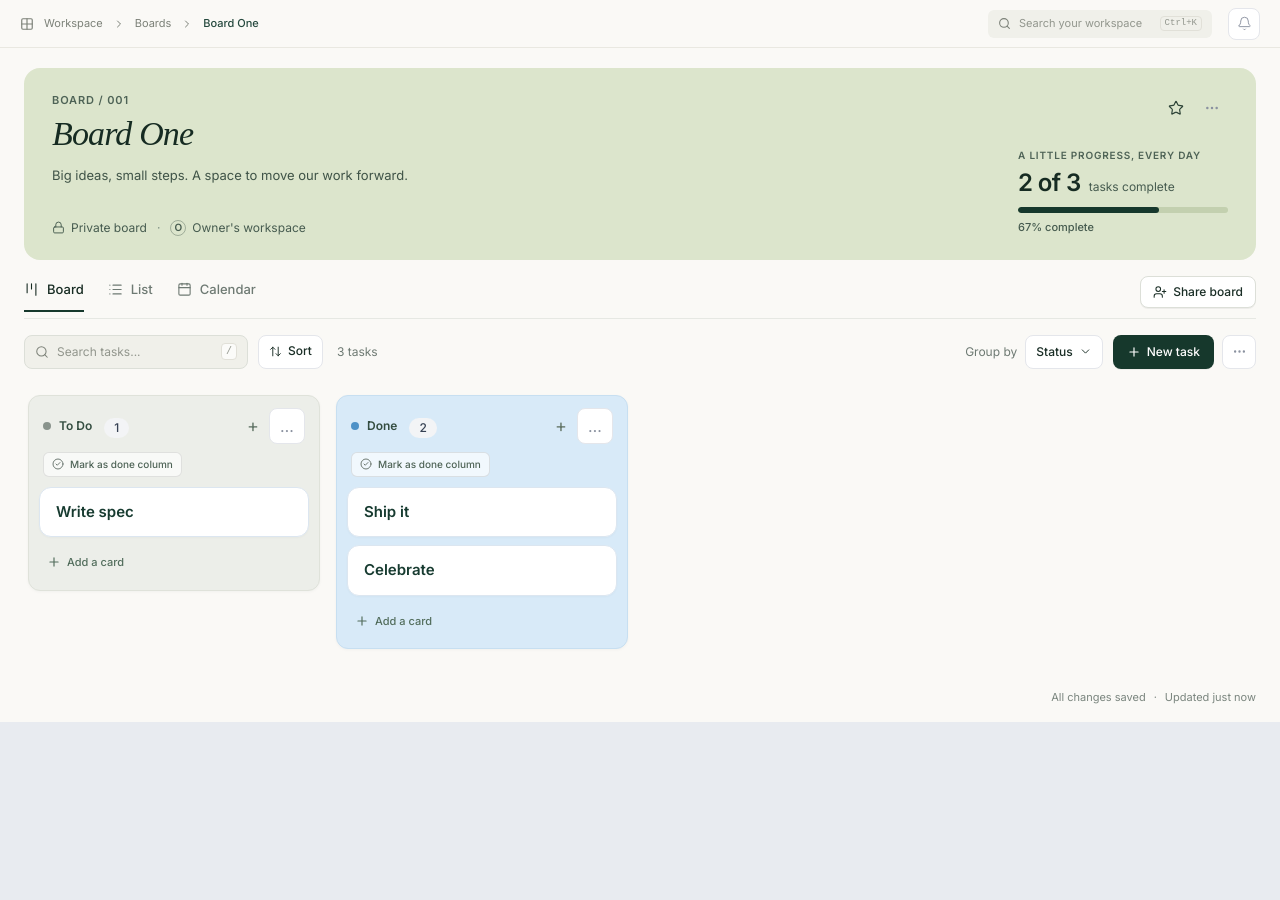
it: BoardDetailView › columns and cards › column + button (add task to top) › keeps the typed title and shows the error when creation fails
The image size is (1280, 900).
Click the button named "Add task to top of To Do" at (253, 426), box x1=241 y1=414 x2=265 y2=438
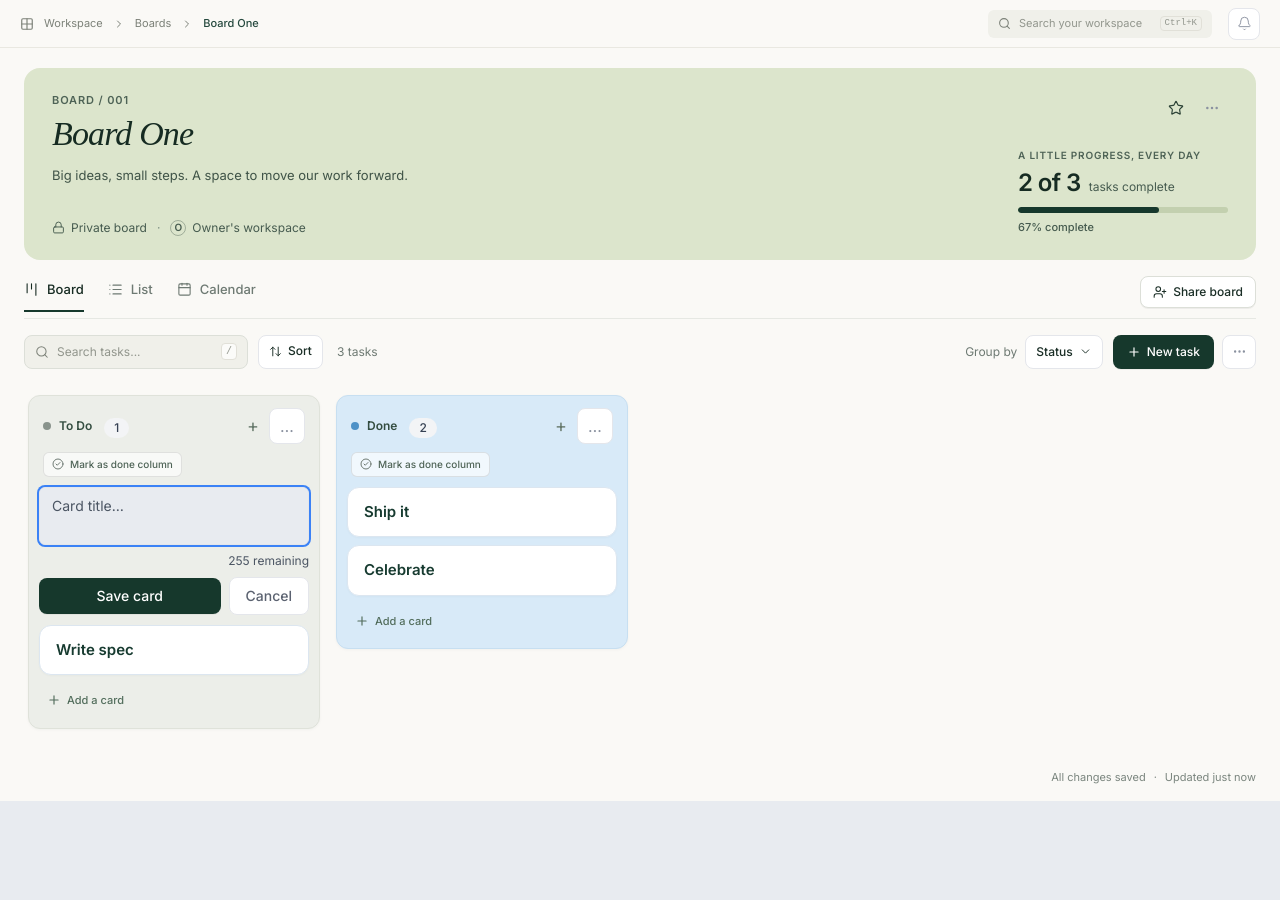
Type "Keep me" into the text box labelled "Card title" at (174, 516), box x1=39 y1=486 x2=309 y2=544
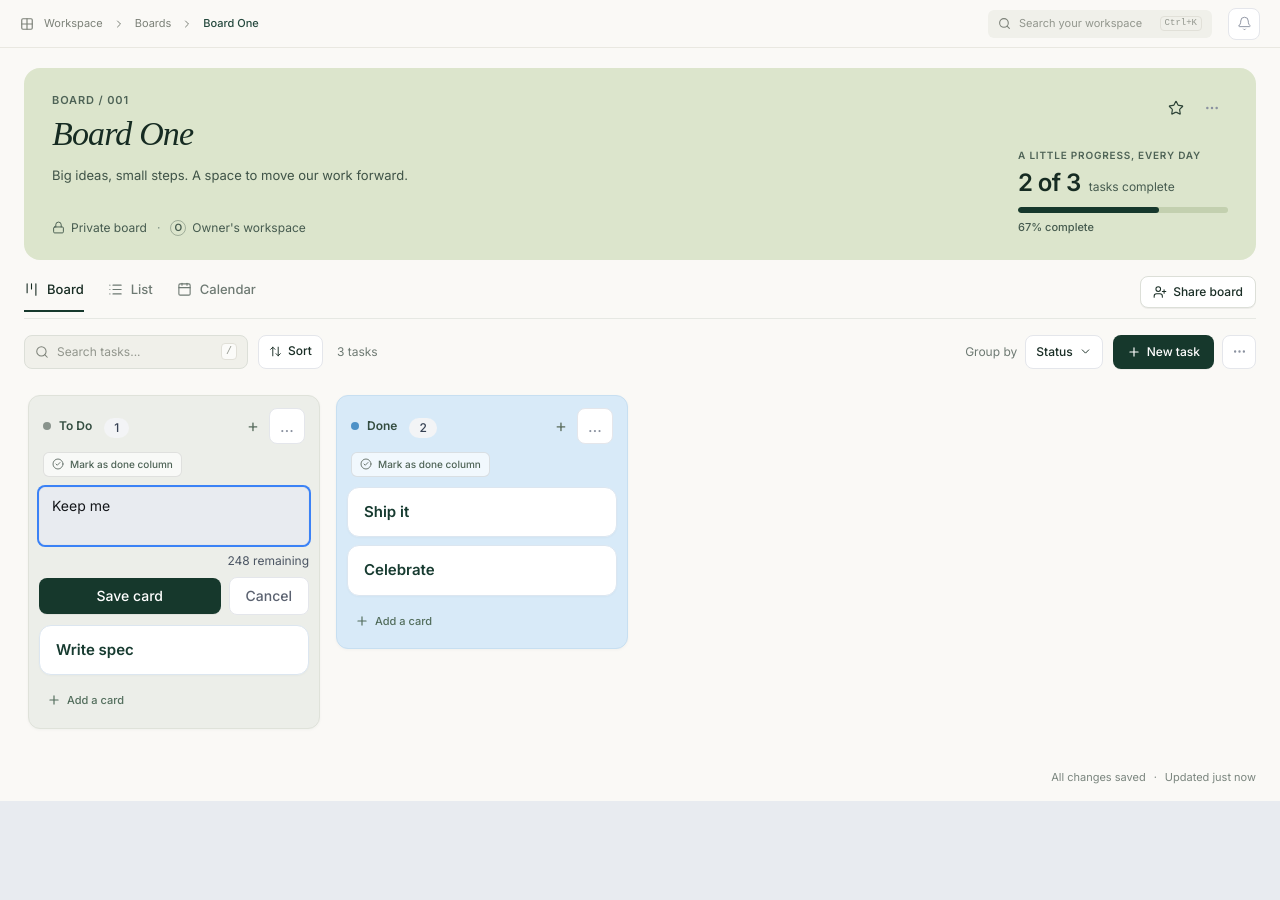
Click the button "Save card" at (130, 596), box x1=39 y1=578 x2=220 y2=614
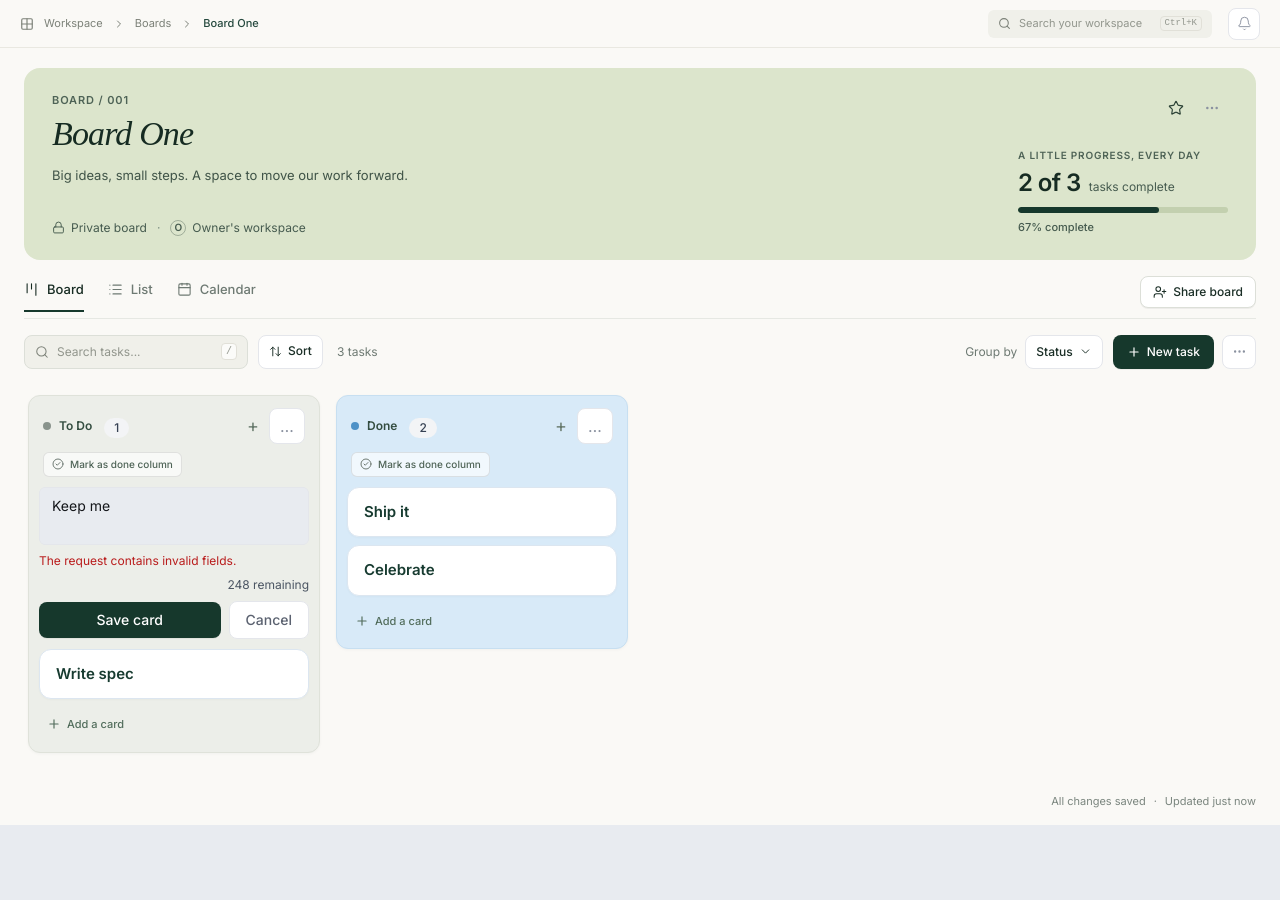
Check: the message shows "invalid fields", box x1=39 y1=552 x2=236 y2=568
